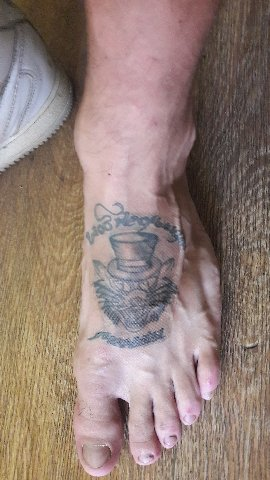tatu3_bukva: (72, 203, 197, 241), (83, 324, 173, 359)
tatu8_kot: (96, 239, 171, 326)
